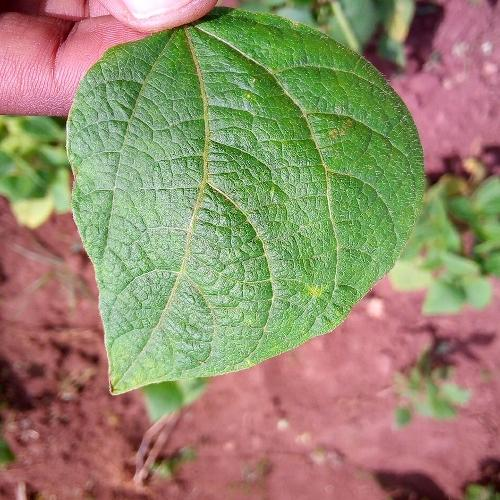sehat: (122, 59, 400, 346)
